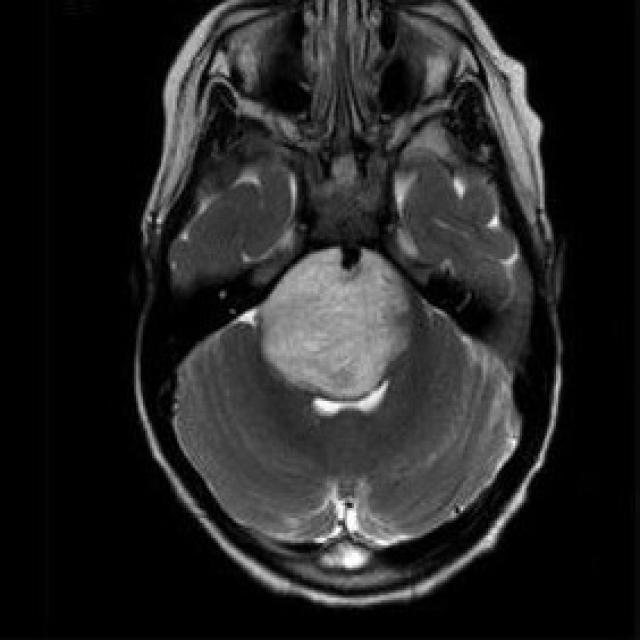glioma: (252, 241, 418, 408)
